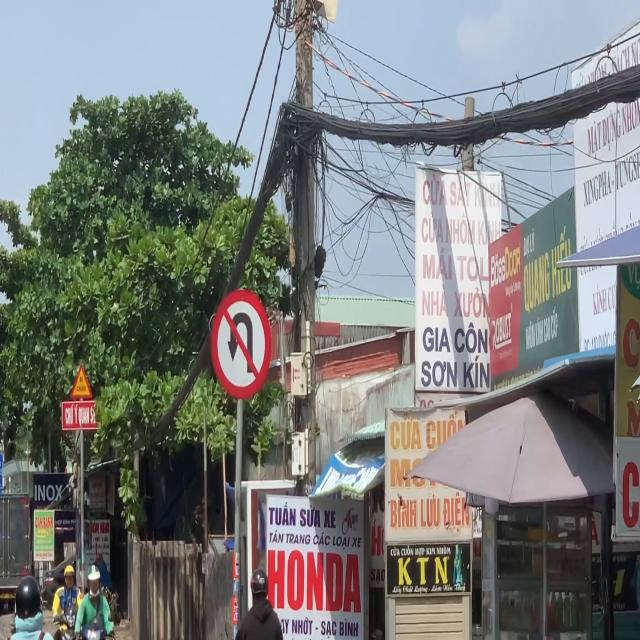Cam quay dau xe: (210, 288, 272, 398)
Nguy hiem: (70, 364, 93, 398)
